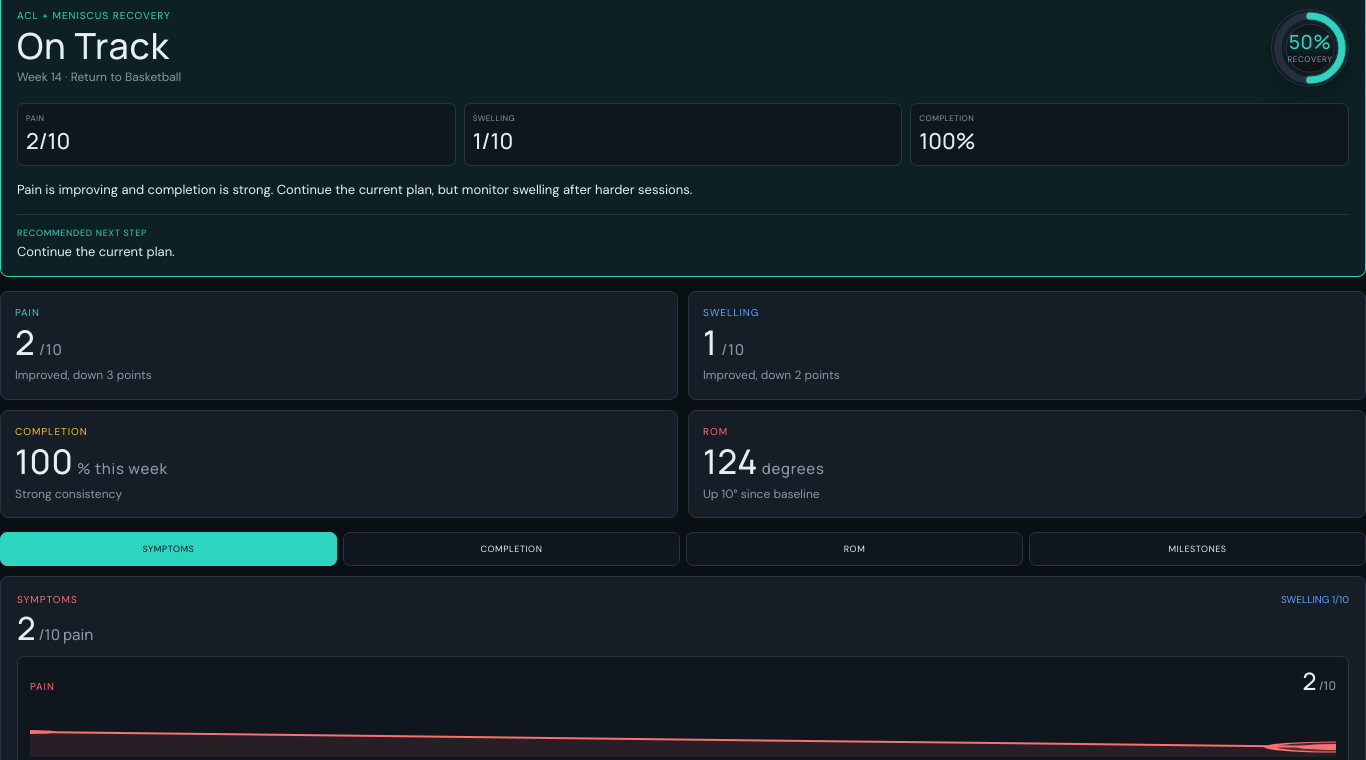
Scenario: ProgressView › shows trend tabs and ready-for-test milestone states
Expected: the text "On Track" is shown, x1=17 y1=28 x2=181 y2=64
Click the button "Milestones" at coordinates (1198, 549), box x1=1029 y1=532 x2=1365 y2=566
(page scrolled)
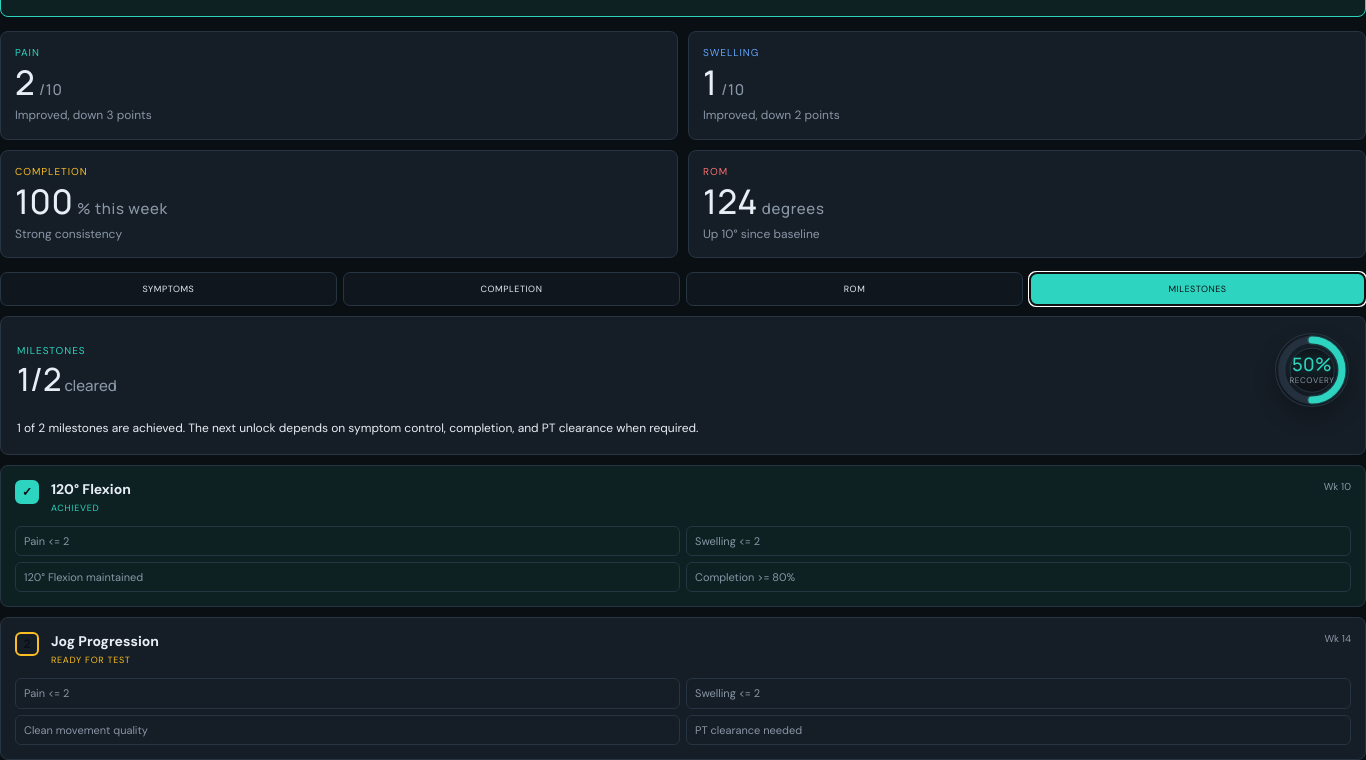
Result: the text "Jog Progression" is shown at x1=51 y1=632 x2=159 y2=650
Result: the text "Ready for test" is shown at x1=51 y1=654 x2=131 y2=666
Result: the text "PT clearance needed" is shown at x1=686 y1=715 x2=1351 y2=745
